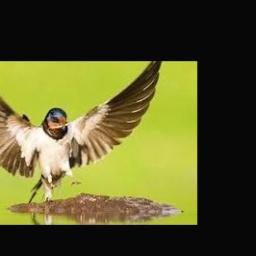Swallow: (0, 61, 163, 202)
